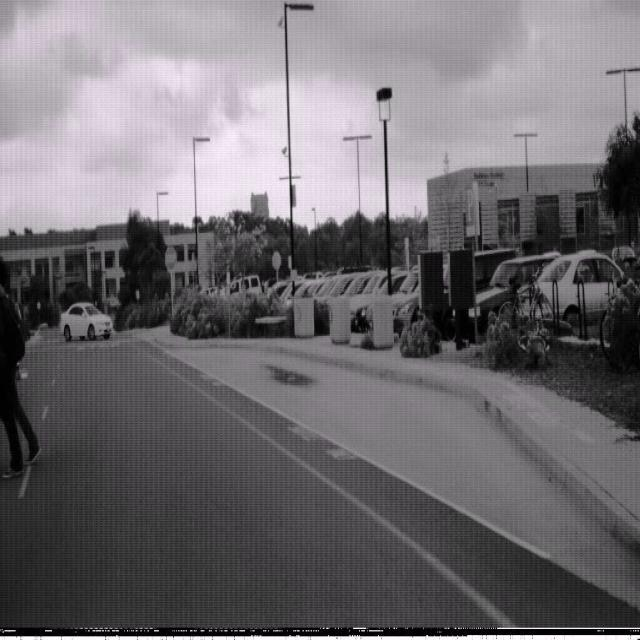stop: (164, 245, 178, 272), (426, 229, 439, 254)
